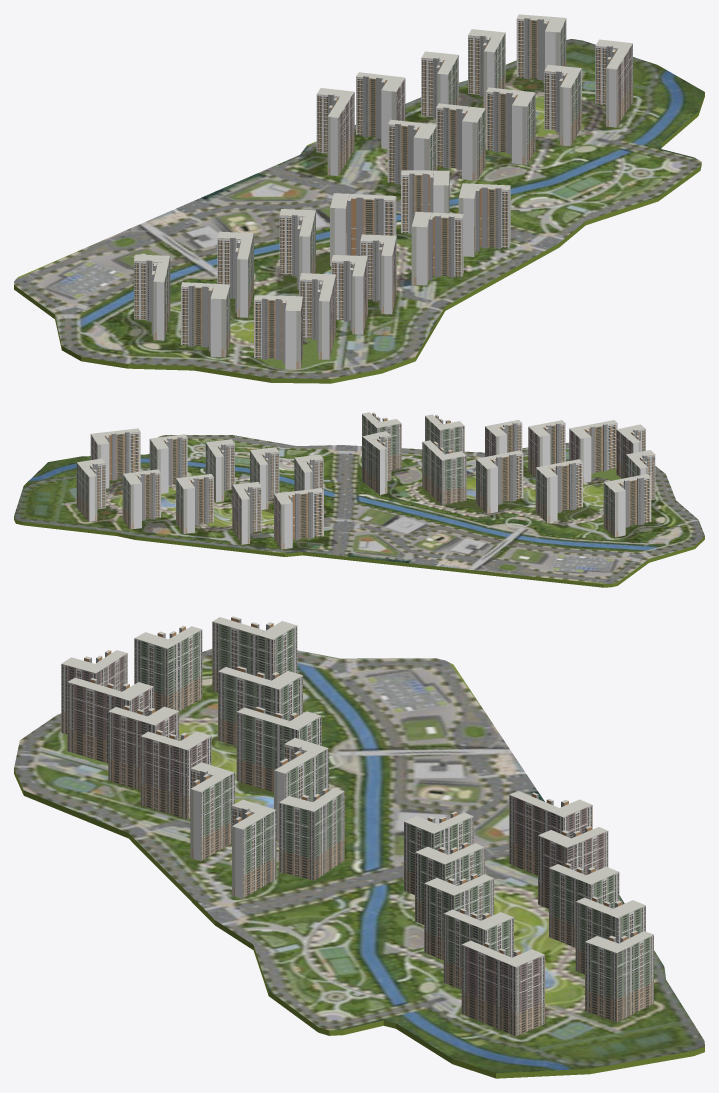
Rendered from ICJ00106.glb.
3 views of the same model, one above another, from view 1: azimuth 30°, elevation 25°; view 2: azimuth 150°, elevation 25°; view 3: azimuth 270°, elevation 25° (orthographic). The views are drawn at different scales.
Parts seen in each view (by area): view 1: MainBuilding; view 2: MainBuilding; view 3: MainBuilding.
Part boxes in pixels (box(x1,y1,x2,y2)): MainBuilding: box(14, 14, 704, 383); MainBuilding: box(14, 412, 704, 587); MainBuilding: box(14, 616, 704, 1078).
Bounding box in the file's own units: 31133 × 2618 × 21139.
1 material, 1 textured.
